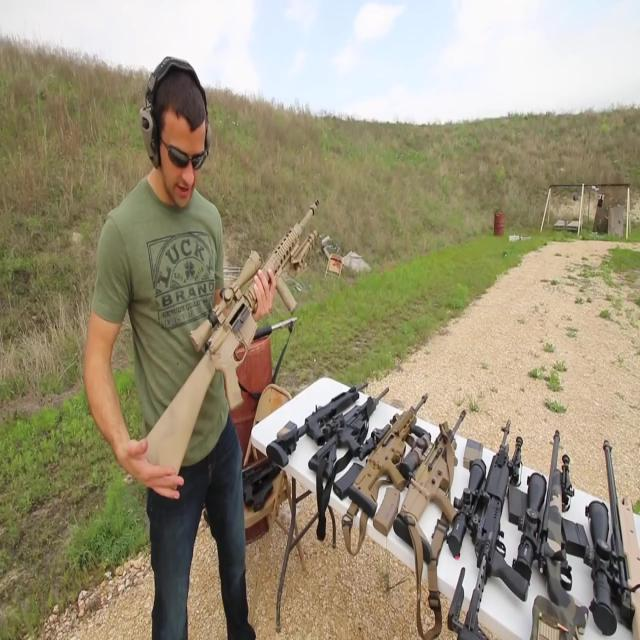Weapon: (188, 321, 640, 640), (117, 153, 363, 492)
